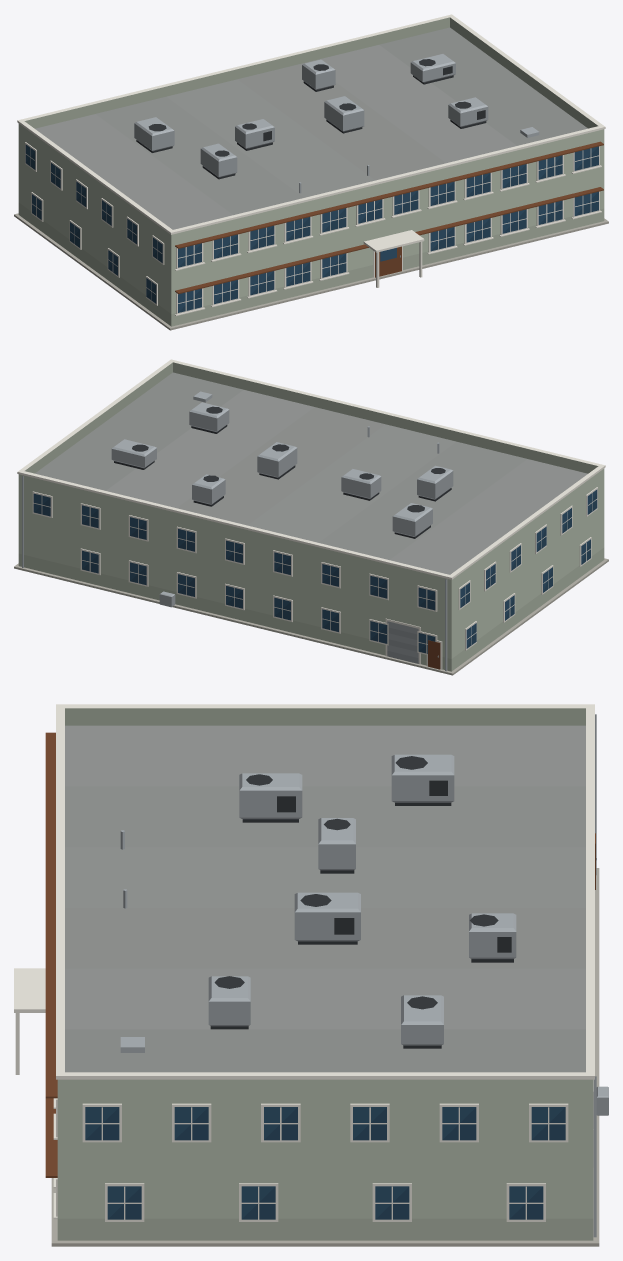
File: office_36x22_2f.glb
3 renders of one model, top to bottom at view 1: azimuth 30°, elevation 25°; view 2: azimuth 150°, elevation 25°; view 3: azimuth 270°, elevation 25°, orthographic. The views are drawn at different scales.
Visible parts, largest first — view 1: block; view 2: block; view 3: block.
Part boxes in pixels (x1,y1,x2,y2): block: (14,14,608,330); block: (14,359,608,675); block: (14,704,608,1246).
Size of the model in its own units: 36.5 by 8.48 by 24.45.
